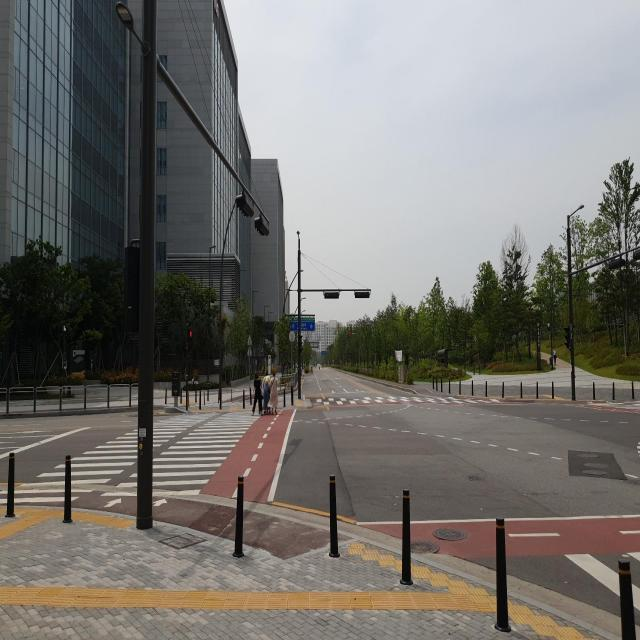빨간불: (187, 328, 195, 357)
횡단보도: (0, 413, 269, 509), (564, 544, 640, 615), (312, 392, 500, 407), (585, 399, 640, 416)
